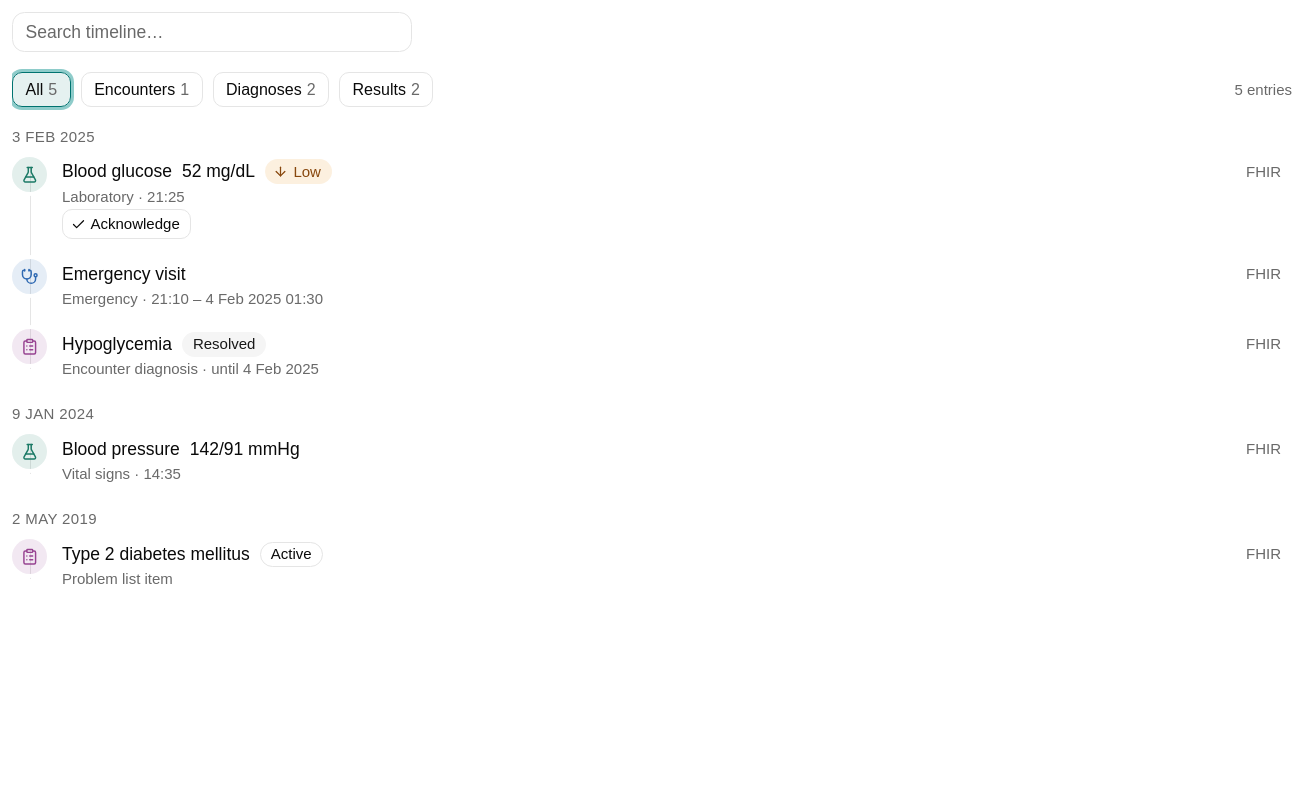
Scenario: PatientTimeline › filters by type with the keyboard
Check: the text "Blood glucose" is shown, box top-left (62, 160), bottom-right (172, 184)
Press Arrowright Arrowright
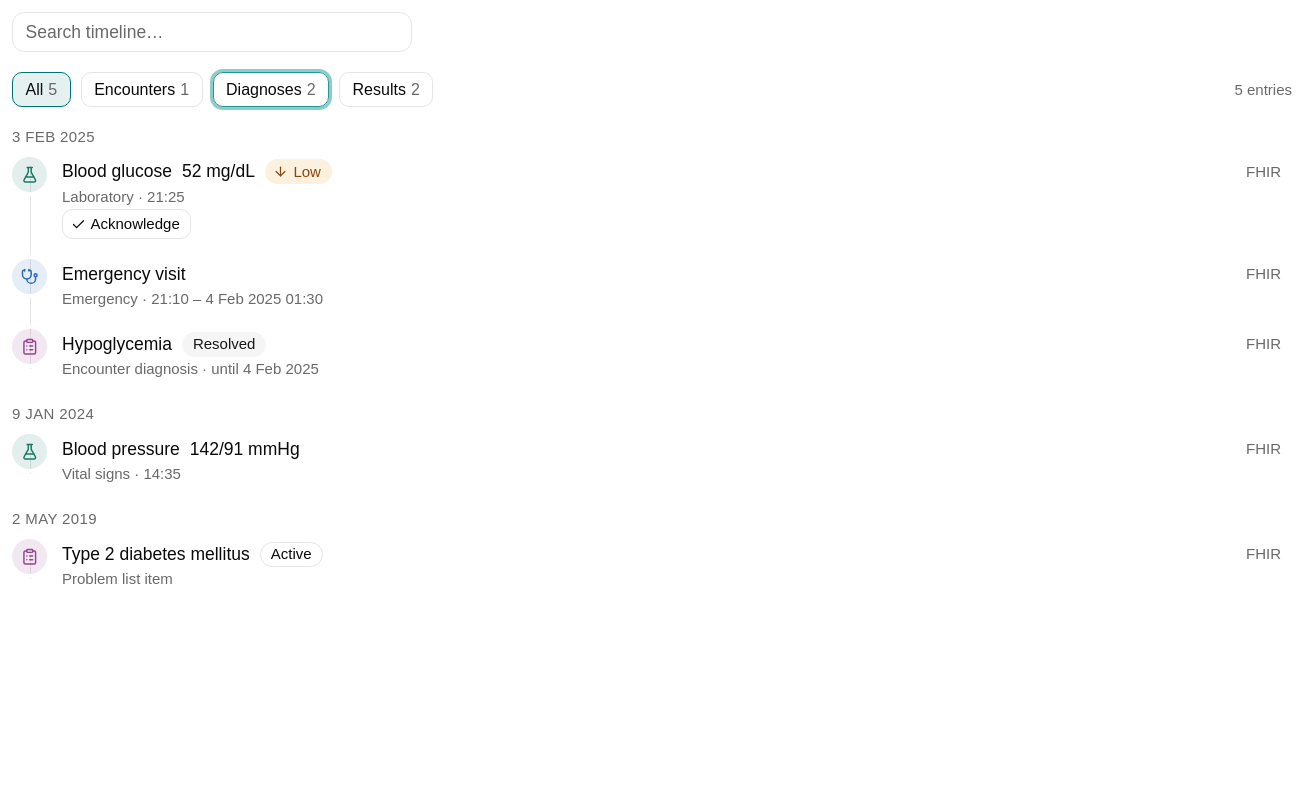
Type keys " "
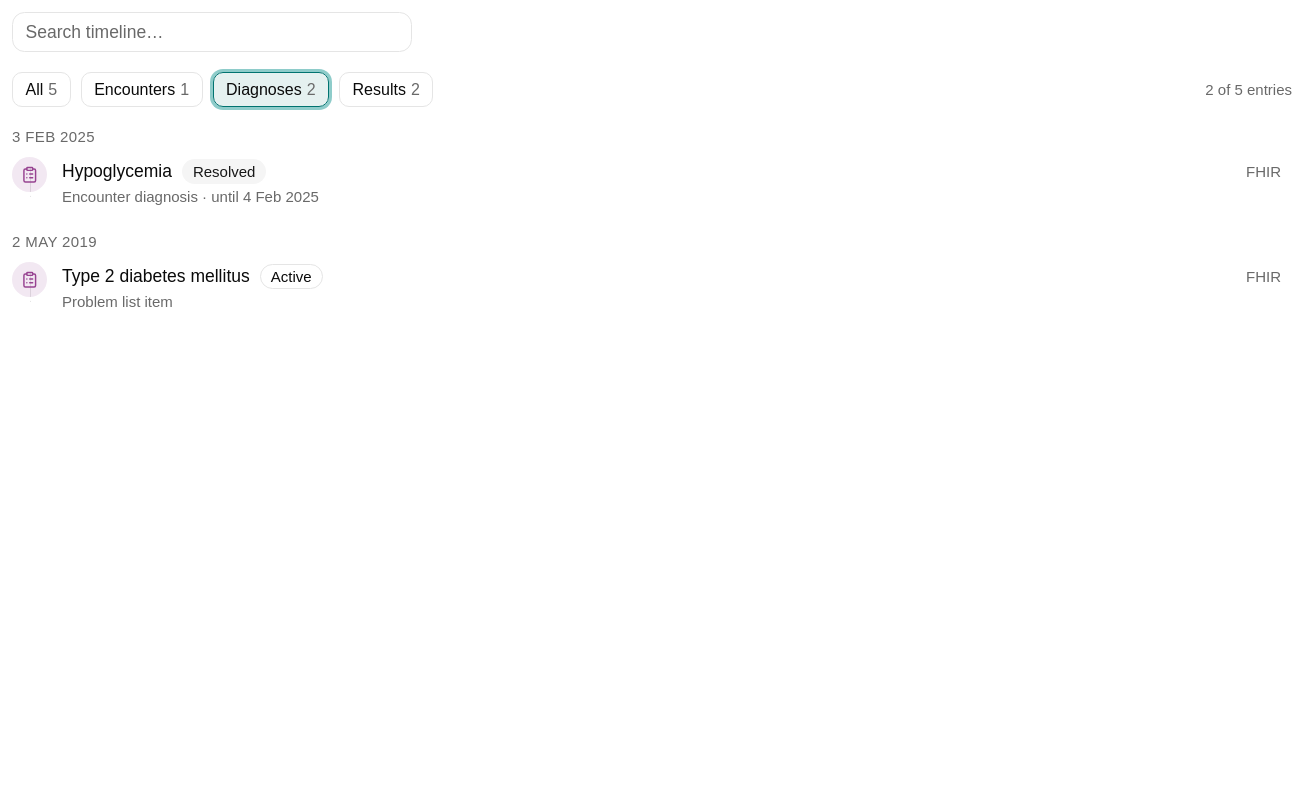
Check: the number of list items is 2, box top-left (12, 157), bottom-right (1292, 207); top-left (12, 262), bottom-right (1292, 312)
Check: the text "Blood glucose" is gone
Check: the message reads "2 of 5 entries", box top-left (1205, 80), bottom-right (1292, 98)
# Pressing the active filter again keeps it (single-select, never empty).
Type keys " "
Check: the button "Diagnoses 2" is pressed, box top-left (212, 72), bottom-right (329, 107)
Click the button "All 5": (41, 90) top-left (12, 72), bottom-right (71, 107)
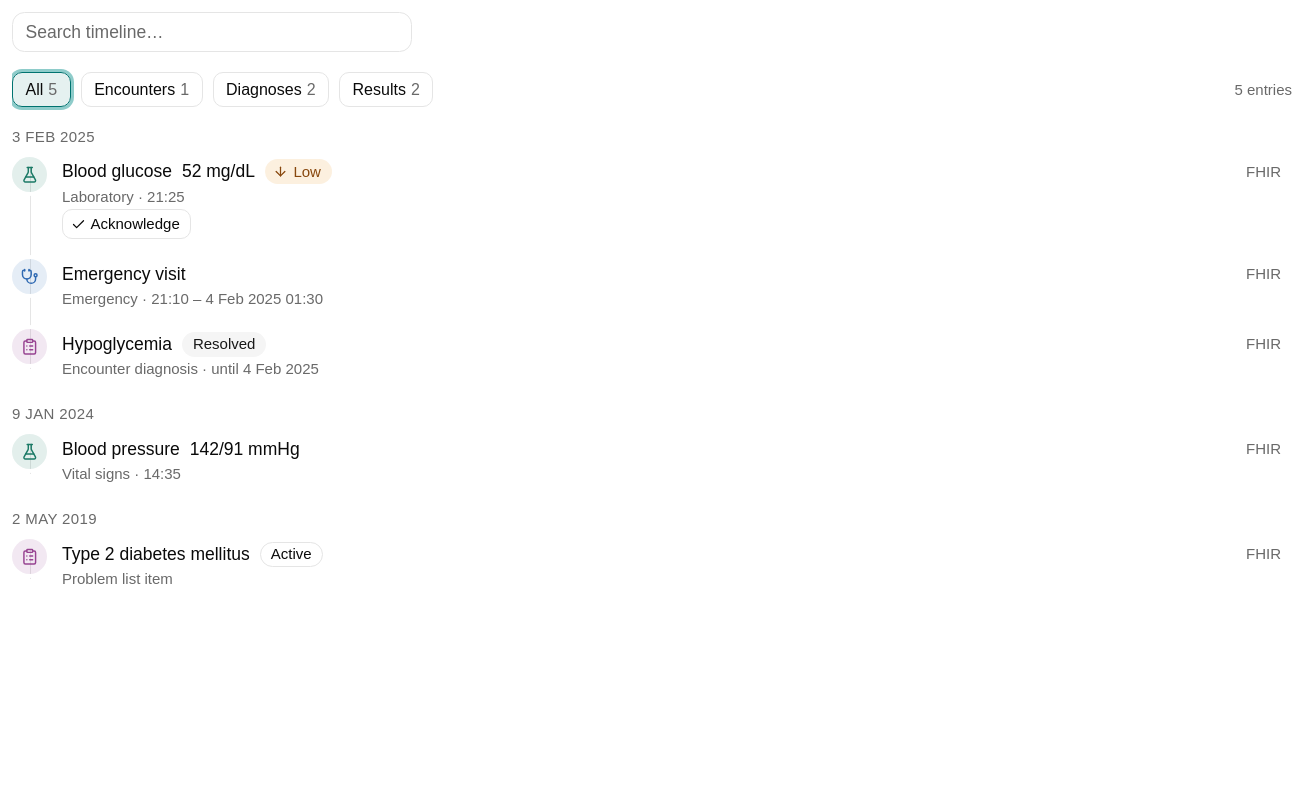
Check: the number of list items is 5, box top-left (12, 157), bottom-right (1292, 260); top-left (12, 260), bottom-right (1292, 330); top-left (12, 330), bottom-right (1292, 380); top-left (12, 434), bottom-right (1292, 484); top-left (12, 539), bottom-right (1292, 589)
